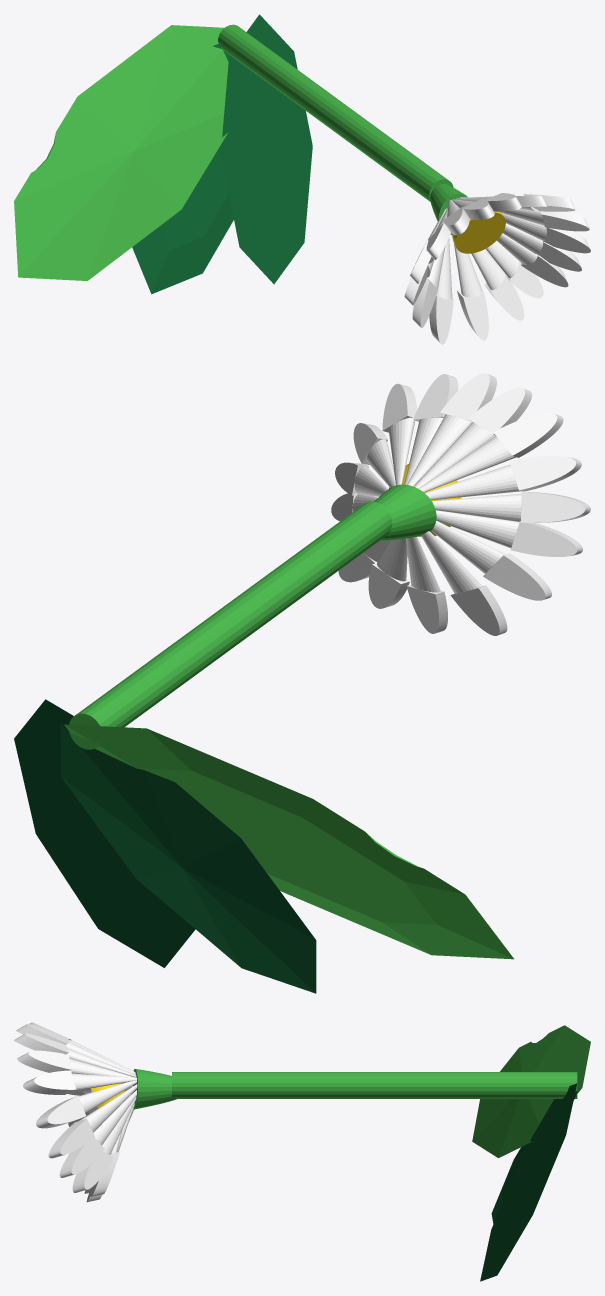
The model's file is tinker.obj.
3 renders of one model, top to bottom at view 1: azimuth 30°, elevation 25°; view 2: azimuth 150°, elevation 25°; view 3: azimuth 270°, elevation 25°, orthographic. The views are drawn at different scales.
Visible parts, largest first — view 1: group_0_4634441, group_0_1206582, group_0_16448250, group_0_16768282; view 2: group_0_4634441, group_0_1206582, group_0_16448250; view 3: group_0_4634441, group_0_16448250, group_0_1206582.
Part boxes in pixels (bbox=[...]): group_0_4634441: bbox=[14, 24, 467, 280]; group_0_1206582: bbox=[132, 14, 312, 294]; group_0_16448250: bbox=[404, 193, 590, 344]; group_0_16768282: bbox=[452, 211, 505, 253]; group_0_4634441: bbox=[64, 484, 513, 959]; group_0_1206582: bbox=[14, 699, 316, 993]; group_0_16448250: bbox=[331, 373, 590, 635]; group_0_4634441: bbox=[131, 1025, 590, 1157]; group_0_16448250: bbox=[14, 1022, 137, 1202]; group_0_1206582: bbox=[480, 1083, 577, 1281].
Bounding box in the file's own units: 28.32 × 20.09 × 42.19.
